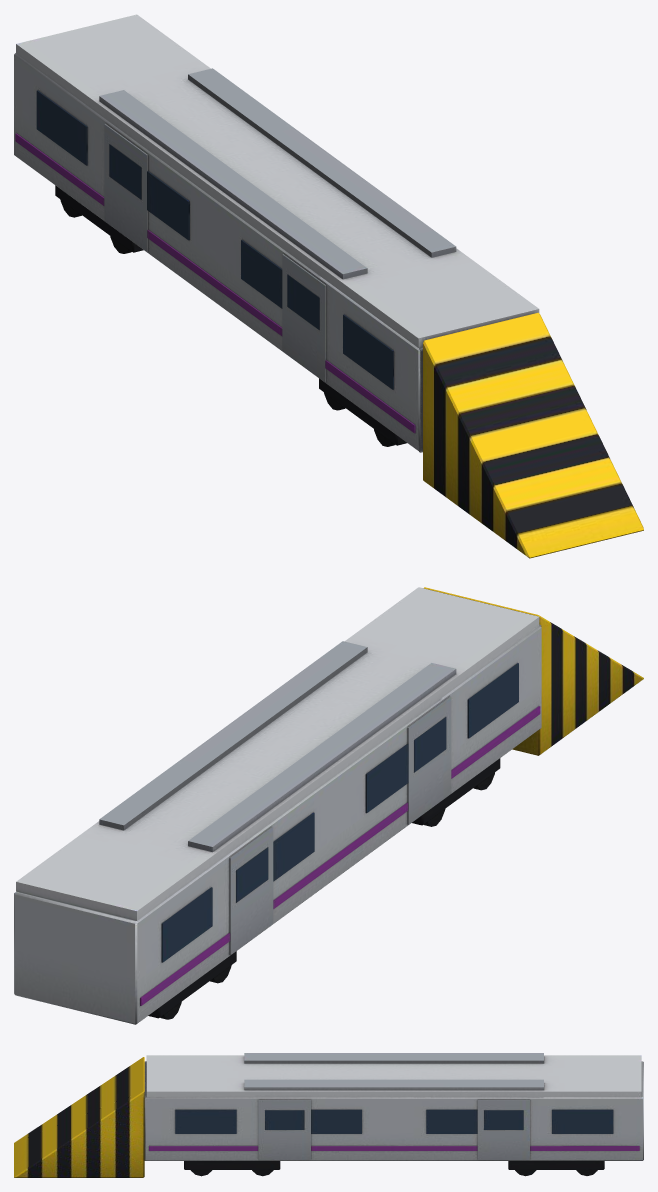
Rendered from vagon.glb.
3 renders of one model, top to bottom at view 1: azimuth 30°, elevation 25°; view 2: azimuth 150°, elevation 25°; view 3: azimuth 270°, elevation 25°, orthographic. The views are drawn at different scales.
Parts seen in each view (by area): view 1: vagon; view 2: vagon; view 3: vagon.
Part boxes in pixels (x1,y1,x2,y2): vagon: (14, 14, 643, 558); vagon: (14, 587, 643, 1024); vagon: (14, 1053, 643, 1177).
Bounding box in the file's own units: 2.06 × 2.28 × 14.38.
1 material, 1 textured.
